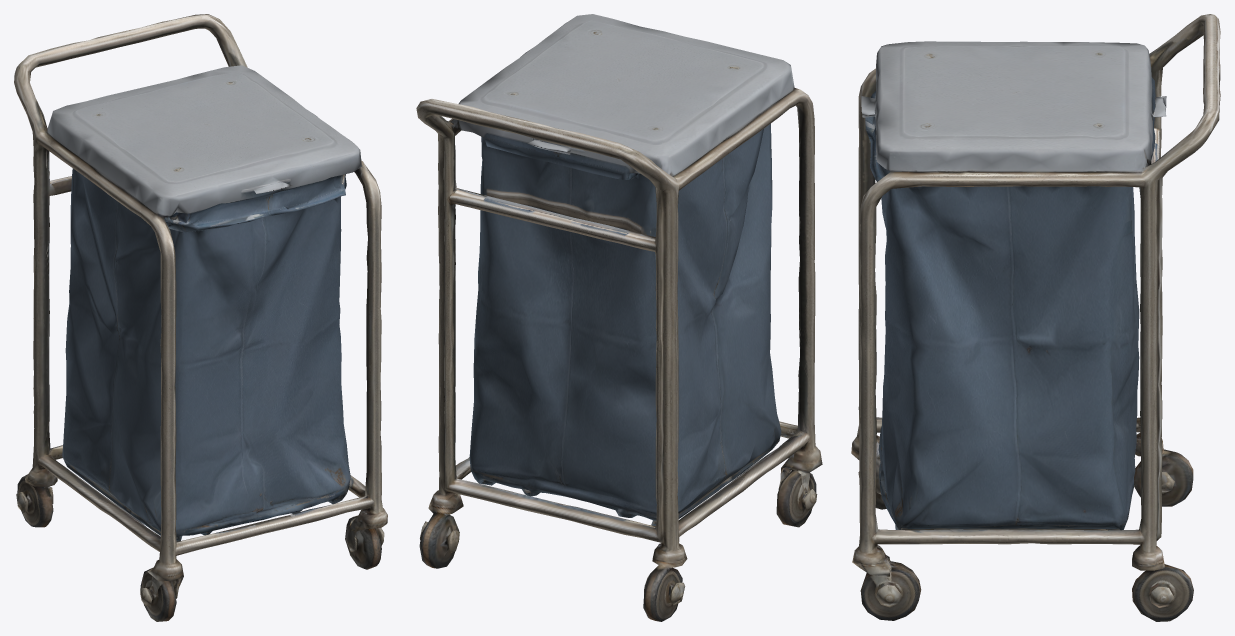
File: CFD_LinenHamper.glb
3 views of the same model, side by side, from view 1: azimuth 30°, elevation 25°; view 2: azimuth 150°, elevation 25°; view 3: azimuth 270°, elevation 25° (orthographic). The views are drawn at different scales.
Visible parts, largest first — view 1: texture_mapping; view 2: texture_mapping; view 3: texture_mapping.
Part boxes in pixels (bbox=[...]): texture_mapping: bbox=[14, 14, 387, 621]; texture_mapping: bbox=[416, 14, 822, 621]; texture_mapping: bbox=[851, 14, 1220, 621].
Size of the model in its own units: 0.5581 by 1 by 0.6642.
1 material, 1 textured.
